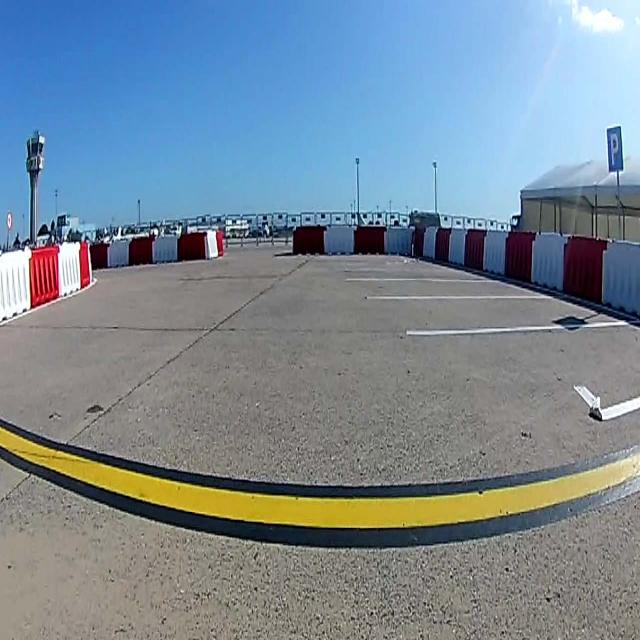park: (606, 126, 623, 172)
